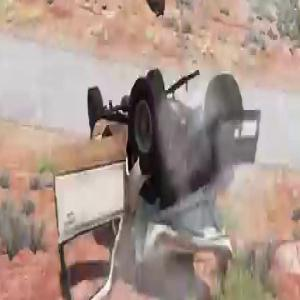serious: (50, 62, 263, 300)
